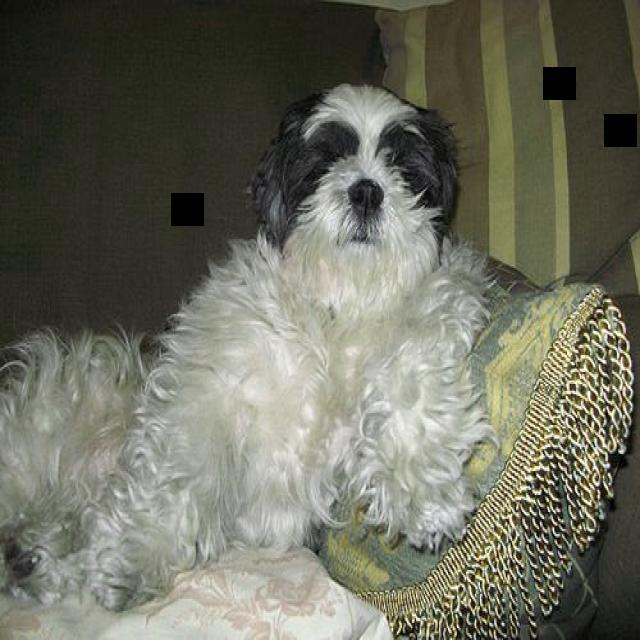adult_dog: (1, 82, 496, 611)
